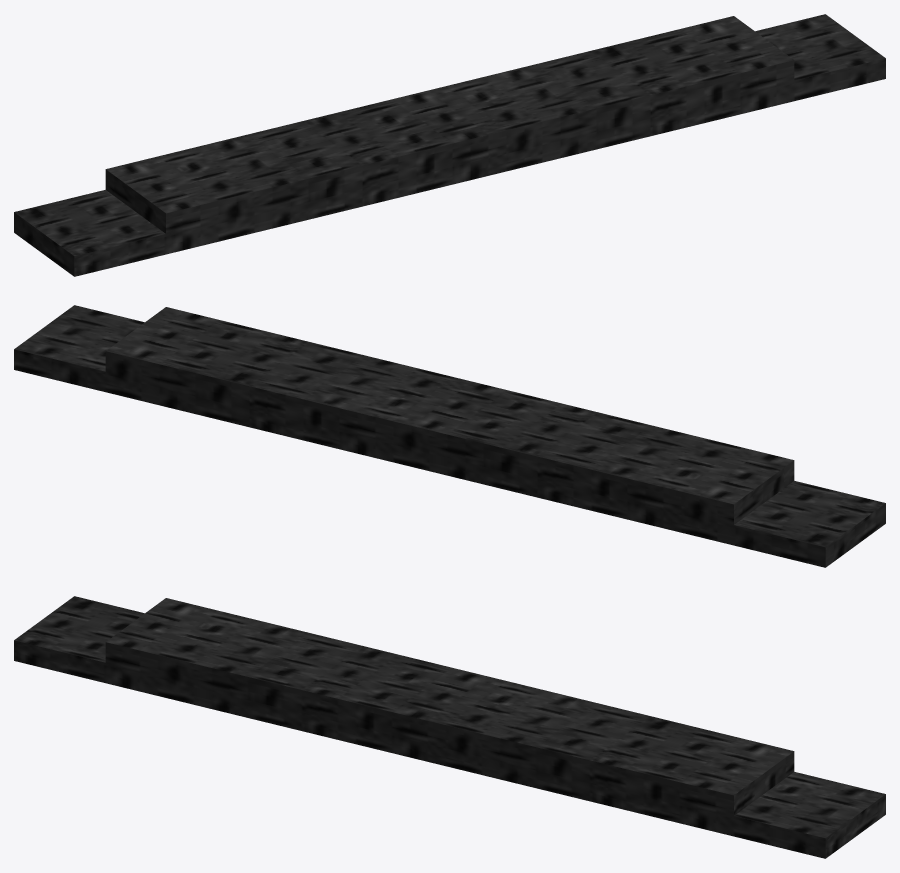
The model's file is original-12.obj.
3 renders of one model, top to bottom at view 1: azimuth 30°, elevation 25°; view 2: azimuth 150°, elevation 25°; view 3: azimuth 330°, elevation 25°, orthographic.
Parts seen in each view (by area): view 1: drawer_frame-front_back2/drawer_frame-front_back/mesh13/mesh13-g; view 2: drawer_frame-front_back2/drawer_frame-front_back/mesh13/mesh13-g; view 3: drawer_frame-front_back2/drawer_frame-front_back/mesh13/mesh13-g.
Boxes of the visible parts, x1,y1,x2,y2 form: drawer_frame-front_back2/drawer_frame-front_back/mesh13/mesh13-g: (14,14,885,276); drawer_frame-front_back2/drawer_frame-front_back/mesh13/mesh13-g: (14,305,885,567); drawer_frame-front_back2/drawer_frame-front_back/mesh13/mesh13-g: (14,596,885,858).
Size of the model in its own units: 0.8132 by 0.0393 by 0.1049.
